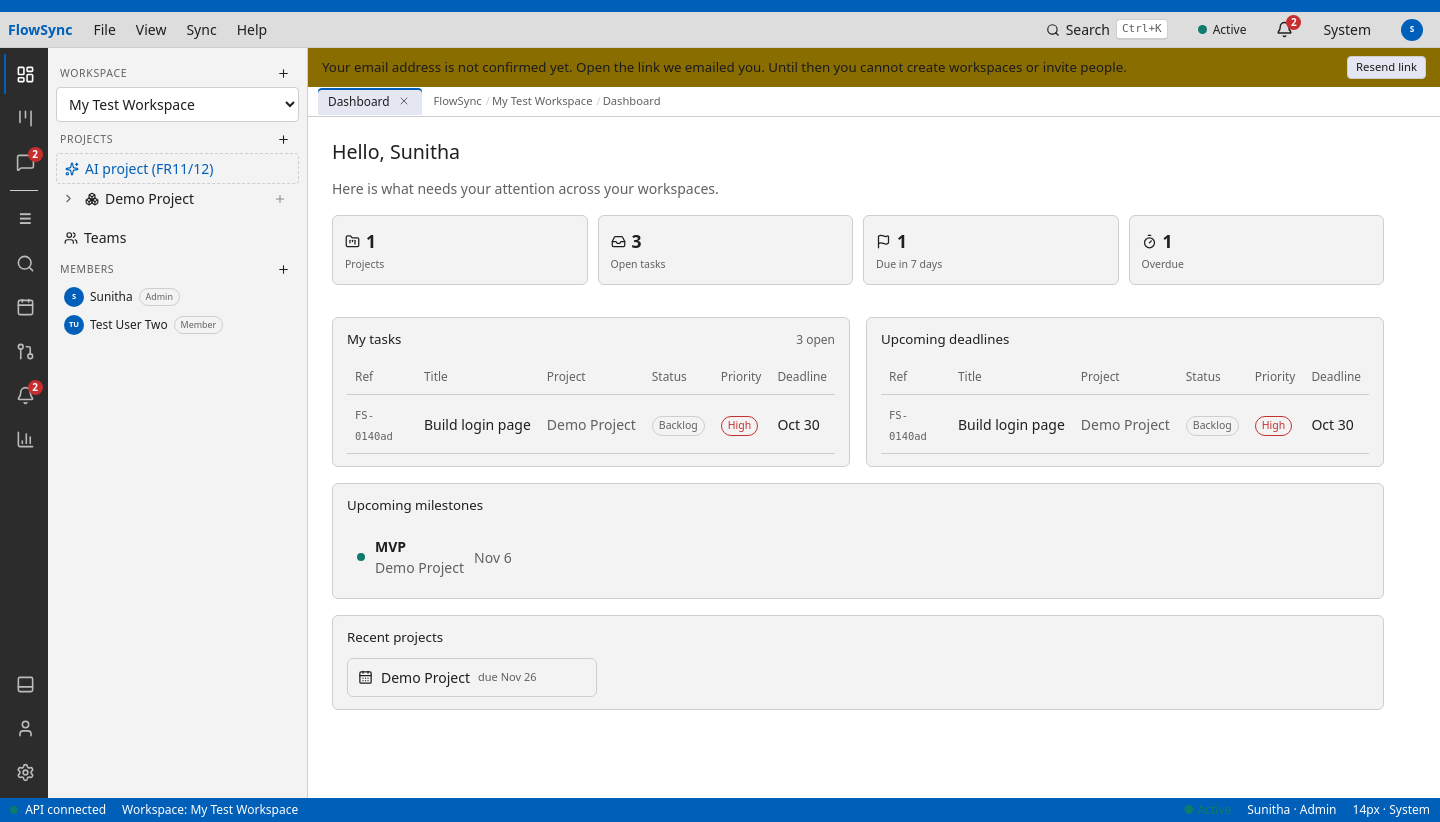
Test: FR1: the "confirm your email" banner › shows for an unconfirmed person, and "Resend link" sends a new email
expect the text "Your email address is not confirmed yet" shows "cannot create workspaces or invite people": met, box x1=322 y1=58 x2=1127 y2=76
Click the button "Resend link".
click(1387, 68)  # box x1=1347 y1=56 x2=1426 y2=79
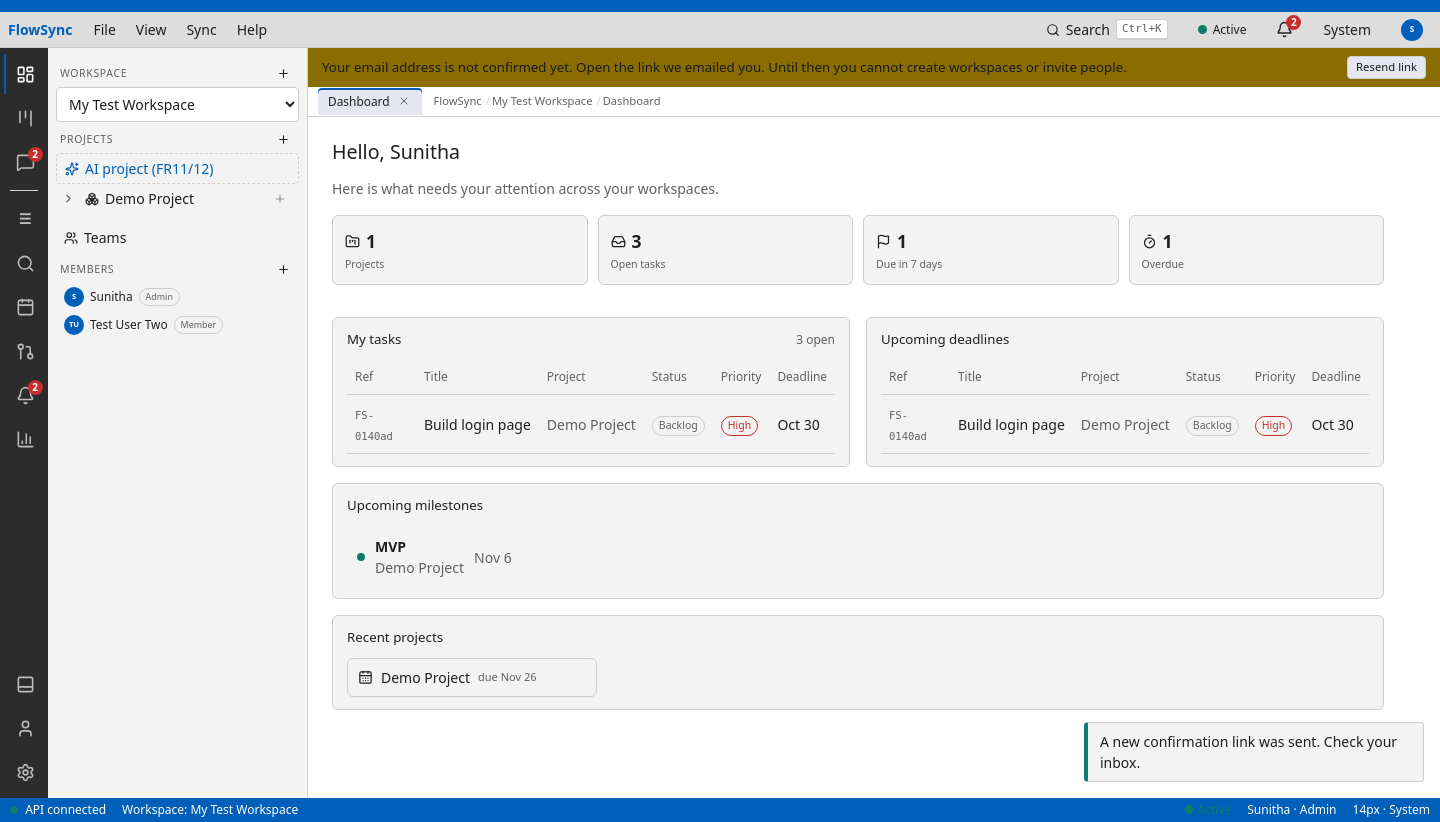
expect the text "A new confirmation link was sent. Check your inbox." is shown: met, box x1=1084 y1=722 x2=1424 y2=782
